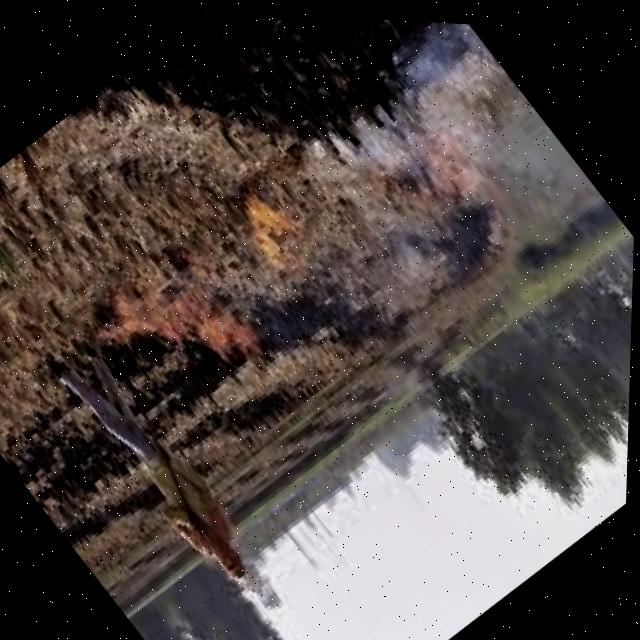Fire: (85, 241, 258, 416), (231, 177, 307, 258)
Smoke: (269, 11, 640, 412)
